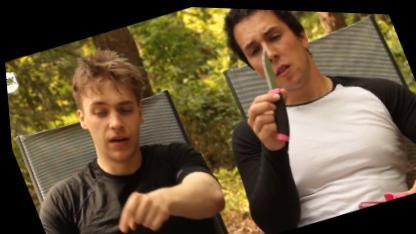knife: (226, 37, 304, 150)
